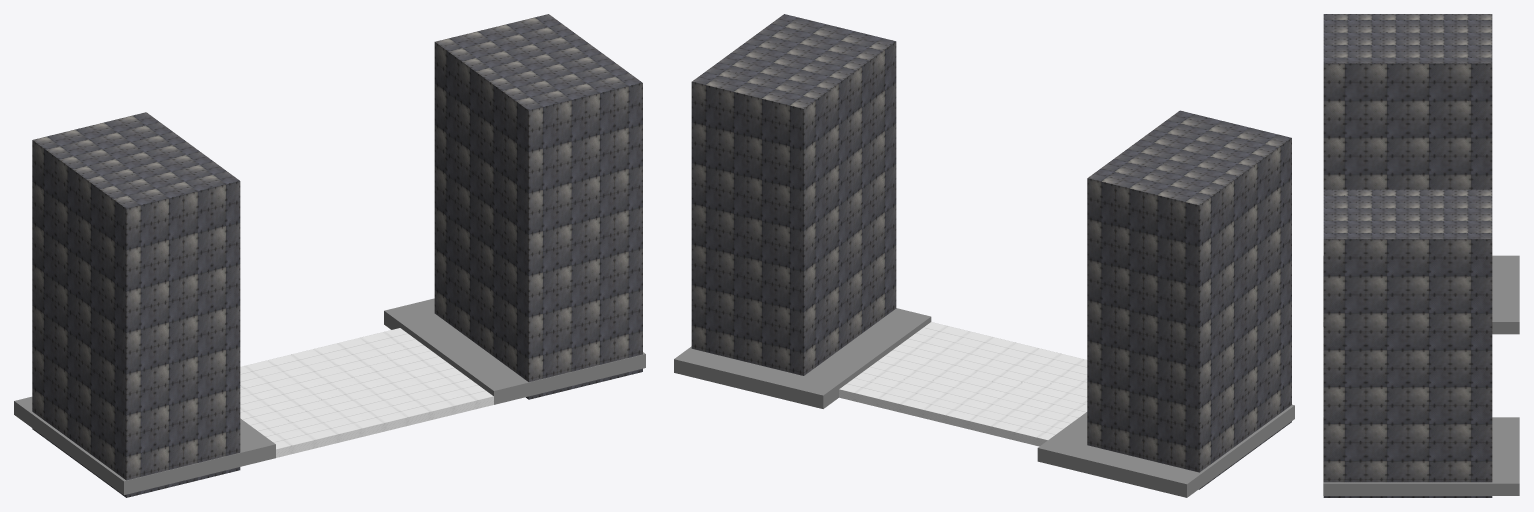
File: platformlvl3_2.FBX
3 renders of one model, left to right at view 1: azimuth 30°, elevation 25°; view 2: azimuth 150°, elevation 25°; view 3: azimuth 270°, elevation 25°, orthographic. The views are drawn at different scales.
Visible parts, largest first — view 1: Box010, Box016, Box009, Box014, Box015; view 2: Box016, Box010, Box009, Box014, Box015; view 3: Box016, Box010, Box014, Box015.
Boxes of the visible parts, x1=… form: Box010: x1=32, y1=112, x2=240, y2=497; Box016: x1=434, y1=14, x2=642, y2=399; Box009: x1=240, y1=328, x2=493, y2=457; Box014: x1=384, y1=298, x2=645, y2=404; Box015: x1=14, y1=396, x2=275, y2=494; Box016: x1=691, y1=14, x2=896, y2=375; Box010: x1=1087, y1=110, x2=1291, y2=489; Box009: x1=839, y1=322, x2=1087, y2=446; Box014: x1=674, y1=308, x2=931, y2=408; Box015: x1=1037, y1=404, x2=1294, y2=497; Box016: x1=1323, y1=189, x2=1492, y2=497; Box010: x1=1323, y1=14, x2=1492, y2=189; Box014: x1=1323, y1=417, x2=1519, y2=495; Box015: x1=1323, y1=255, x2=1519, y2=334.
Bounding box in the file's own units: 64.32 × 34.05 × 23.45.
Materials: 3 (2 with a texture image).
